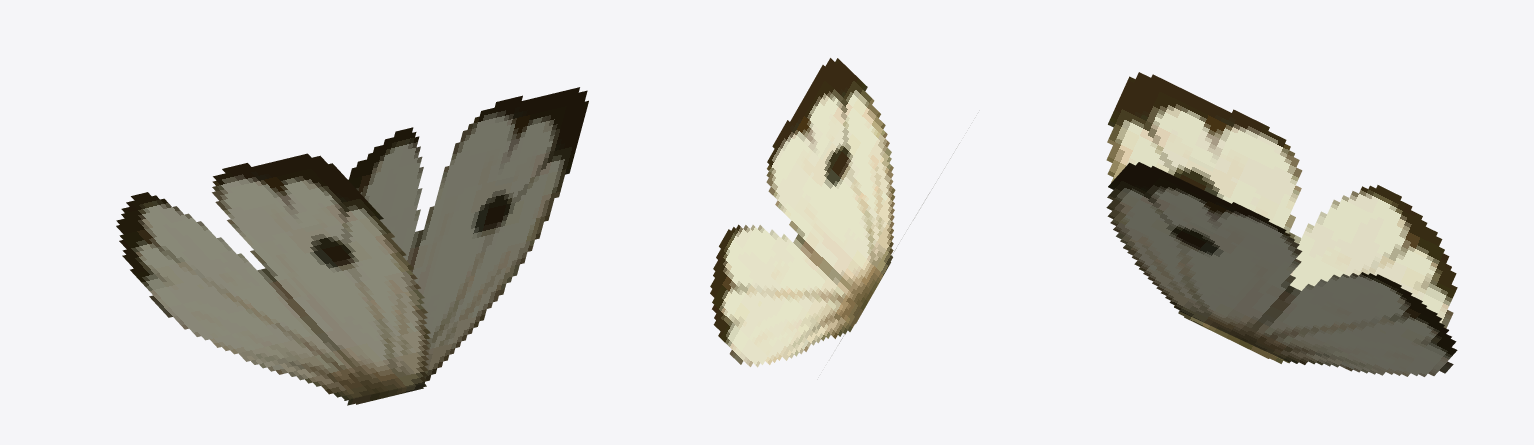
Rendered from butterfly1.dae.
3 renders of one model, left to right at view 1: azimuth 30°, elevation 25°; view 2: azimuth 150°, elevation 25°; view 3: azimuth 270°, elevation 25°, orthographic. The views are drawn at different scales.
Parts seen in each view (by area): view 1: n1b1, n0b0; view 2: n0b0; view 3: n0b0, n1b1.
Boxes of the visible parts, <box> form: n1b1: <box>116,153,430,399</box>; n0b0: <box>344,87,588,405</box>; n0b0: <box>710,58,895,367</box>; n0b0: <box>1106,162,1457,376</box>; n1b1: <box>1106,72,1457,363</box>.
Bounding box in the file's own units: 24.2 × 35.48 × 43.38.
Materials: 1 (1 with a texture image).
